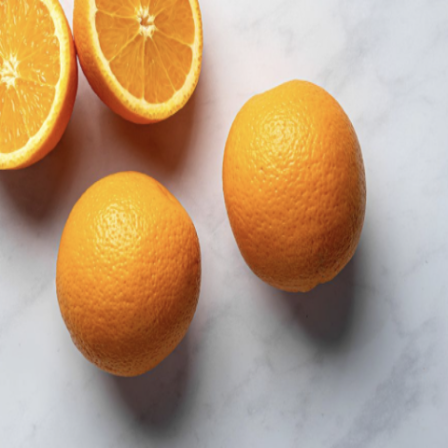orange: (208, 76, 373, 297), (43, 165, 212, 373)
